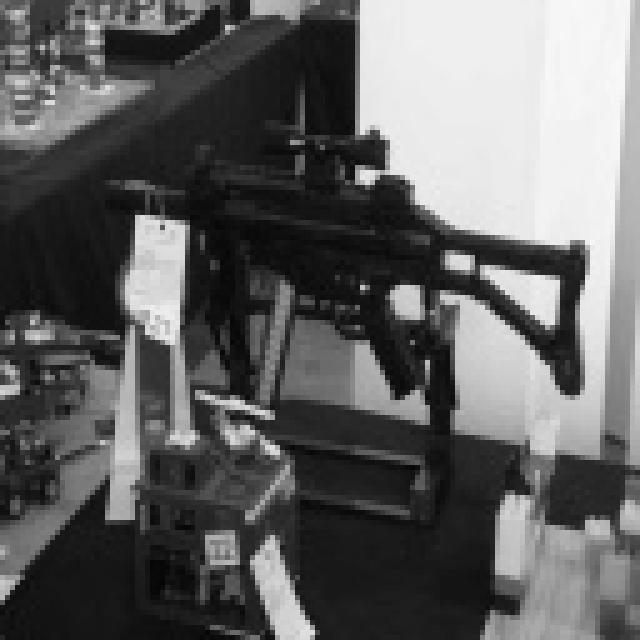Rifle: (48, 82, 614, 454)
